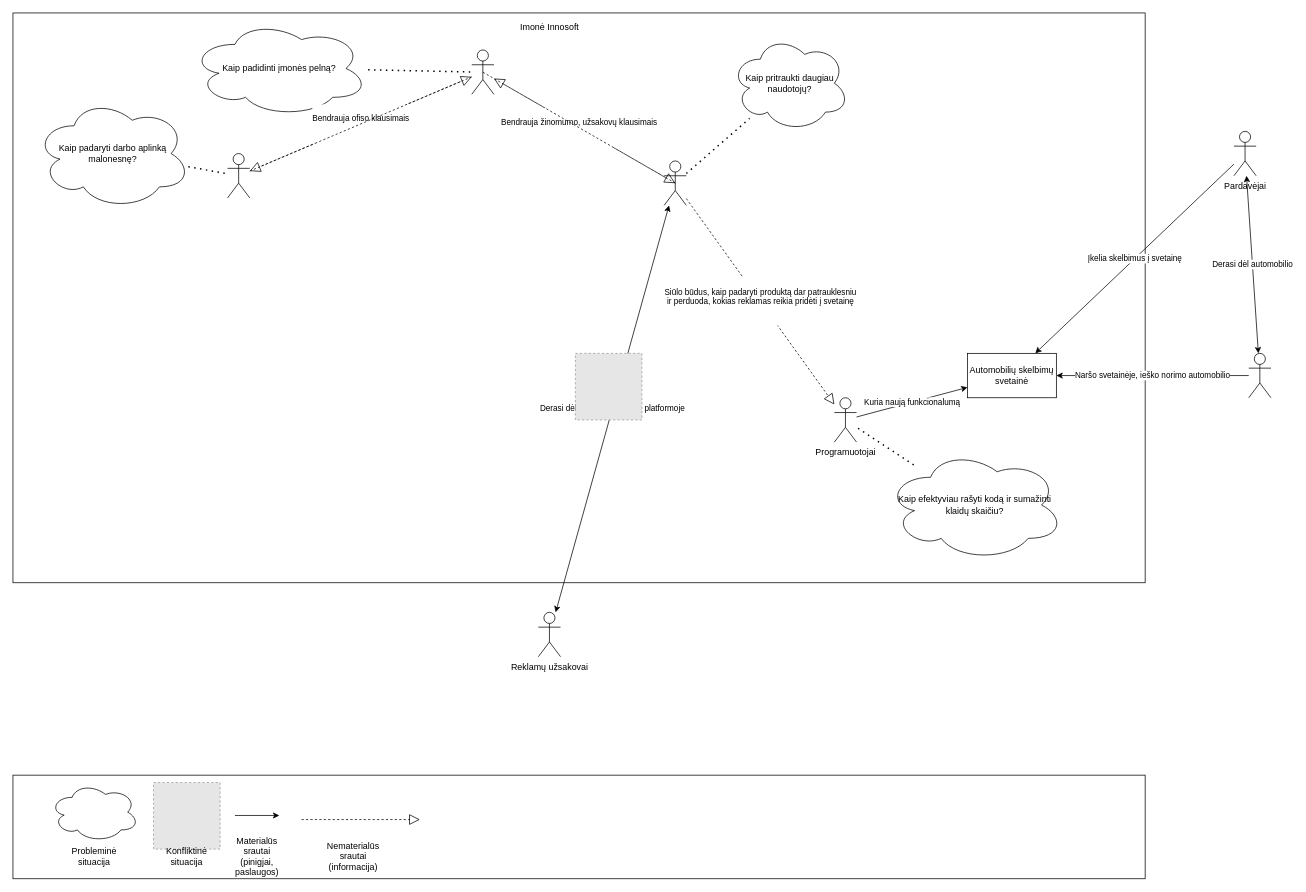
Some shapes in this 1306 by 892 pixel diagram are drawn without their labels. Grey dashed boxes stand in for pictures. Here are the shapes that lost their labels. From the top down, the box of each, then its label:
(471, 49, 494, 94): Direktorius
(227, 153, 250, 198): Administracija
(663, 160, 686, 205): Marketingo specialistai
(1248, 353, 1271, 398): Pirkėjai
